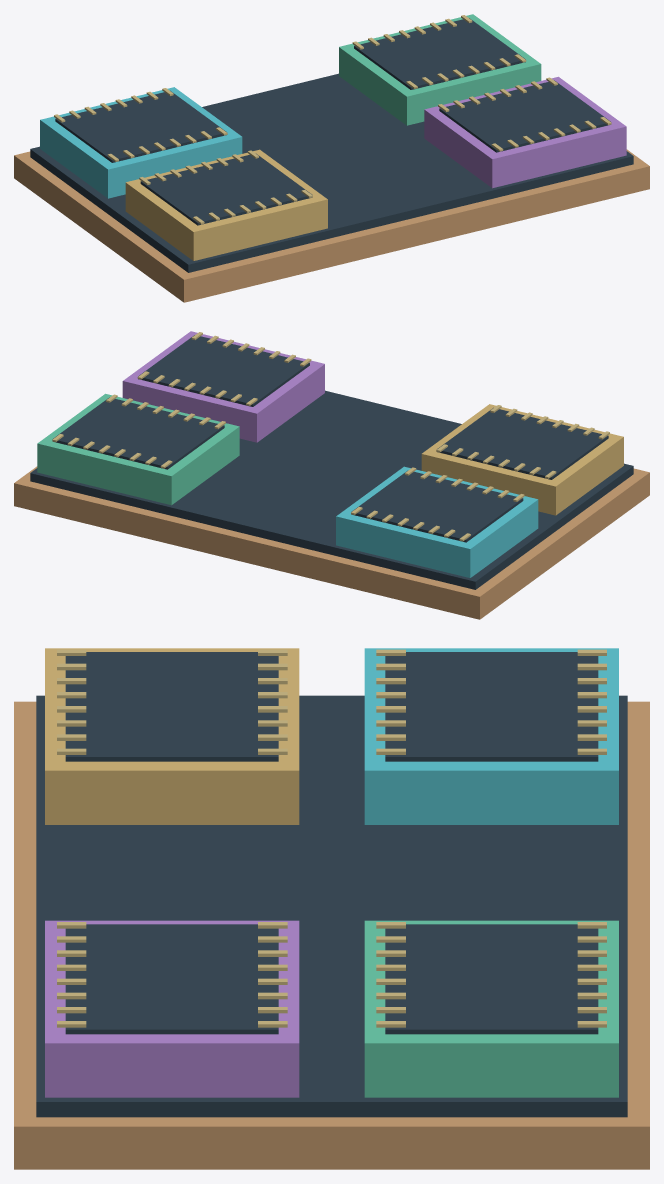
File: 03_L80_BondedFourChipletElectronicAssembly.glb
3 renders of one model, top to bottom at view 1: azimuth 30°, elevation 25°; view 2: azimuth 150°, elevation 25°; view 3: azimuth 270°, elevation 25°, orthographic. The views are drawn at different scales.
Visible parts, largest first — view 1: BondedFourChipletElectronicAssembly_Node_0001, BondedFourChipletElectronicAssembly_Node_0000, BondedFourChipletElectronicAssembly_Node_0046, BondedFourChipletElectronicAssembly_Node_0068, BondedFourChipletElectronicAssembly_Node_0002, BondedFourChipletElectronicAssembly_Node_0024, BondedFourChipletElectronicAssembly_Node_0047, BondedFourChipletElectronicAssembly_Node_0003, BondedFourChipletElectronicAssembly_Node_0069, BondedFourChipletElectronicAssembly_Node_0025; view 2: BondedFourChipletElectronicAssembly_Node_0001, BondedFourChipletElectronicAssembly_Node_0000, BondedFourChipletElectronicAssembly_Node_0002, BondedFourChipletElectronicAssembly_Node_0024, BondedFourChipletElectronicAssembly_Node_0046, BondedFourChipletElectronicAssembly_Node_0068, BondedFourChipletElectronicAssembly_Node_0003, BondedFourChipletElectronicAssembly_Node_0025, BondedFourChipletElectronicAssembly_Node_0047, BondedFourChipletElectronicAssembly_Node_0069; view 3: BondedFourChipletElectronicAssembly_Node_0001, BondedFourChipletElectronicAssembly_Node_0000, BondedFourChipletElectronicAssembly_Node_0025, BondedFourChipletElectronicAssembly_Node_0069, BondedFourChipletElectronicAssembly_Node_0003, BondedFourChipletElectronicAssembly_Node_0047, BondedFourChipletElectronicAssembly_Node_0024, BondedFourChipletElectronicAssembly_Node_0068, BondedFourChipletElectronicAssembly_Node_0002, BondedFourChipletElectronicAssembly_Node_0046.
Part boxes in pixels (x1,y1,x2,y2): BondedFourChipletElectronicAssembly_Node_0001: (30, 73, 633, 272); BondedFourChipletElectronicAssembly_Node_0000: (14, 149, 649, 302); BondedFourChipletElectronicAssembly_Node_0046: (125, 149, 327, 260); BondedFourChipletElectronicAssembly_Node_0068: (424, 76, 626, 188); BondedFourChipletElectronicAssembly_Node_0002: (40, 87, 242, 198); BondedFourChipletElectronicAssembly_Node_0024: (339, 14, 541, 125); BondedFourChipletElectronicAssembly_Node_0047: (140, 153, 312, 225); BondedFourChipletElectronicAssembly_Node_0003: (55, 90, 226, 162); BondedFourChipletElectronicAssembly_Node_0069: (439, 80, 610, 152); BondedFourChipletElectronicAssembly_Node_0025: (354, 18, 525, 89); BondedFourChipletElectronicAssembly_Node_0001: (30, 390, 633, 589); BondedFourChipletElectronicAssembly_Node_0000: (14, 466, 649, 619); BondedFourChipletElectronicAssembly_Node_0002: (336, 466, 538, 577); BondedFourChipletElectronicAssembly_Node_0024: (37, 393, 239, 505); BondedFourChipletElectronicAssembly_Node_0046: (421, 404, 623, 515); BondedFourChipletElectronicAssembly_Node_0068: (122, 331, 324, 442); BondedFourChipletElectronicAssembly_Node_0003: (351, 470, 523, 542); BondedFourChipletElectronicAssembly_Node_0025: (53, 397, 224, 469); BondedFourChipletElectronicAssembly_Node_0047: (437, 407, 608, 479); BondedFourChipletElectronicAssembly_Node_0069: (138, 335, 309, 406); BondedFourChipletElectronicAssembly_Node_0001: (36, 695, 627, 1117); BondedFourChipletElectronicAssembly_Node_0000: (14, 701, 649, 1169); BondedFourChipletElectronicAssembly_Node_0025: (385, 924, 598, 1034); BondedFourChipletElectronicAssembly_Node_0069: (65, 924, 278, 1034); BondedFourChipletElectronicAssembly_Node_0003: (385, 652, 598, 761); BondedFourChipletElectronicAssembly_Node_0047: (65, 652, 278, 761); BondedFourChipletElectronicAssembly_Node_0024: (364, 920, 618, 1097); BondedFourChipletElectronicAssembly_Node_0068: (45, 920, 299, 1097); BondedFourChipletElectronicAssembly_Node_0002: (364, 648, 618, 824); BondedFourChipletElectronicAssembly_Node_0046: (45, 648, 299, 824).
Size of the model in its own units: 3.4 by 0.4835 by 2.15.
